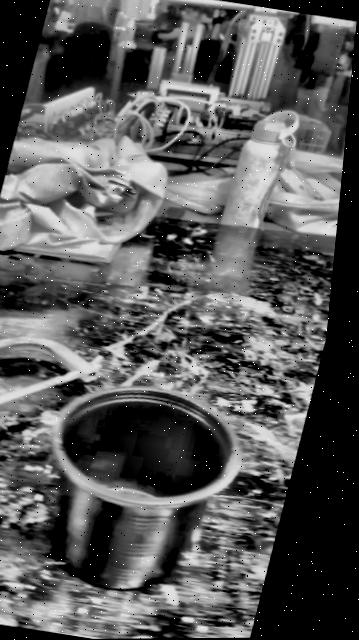pot: (17, 376, 249, 601)
